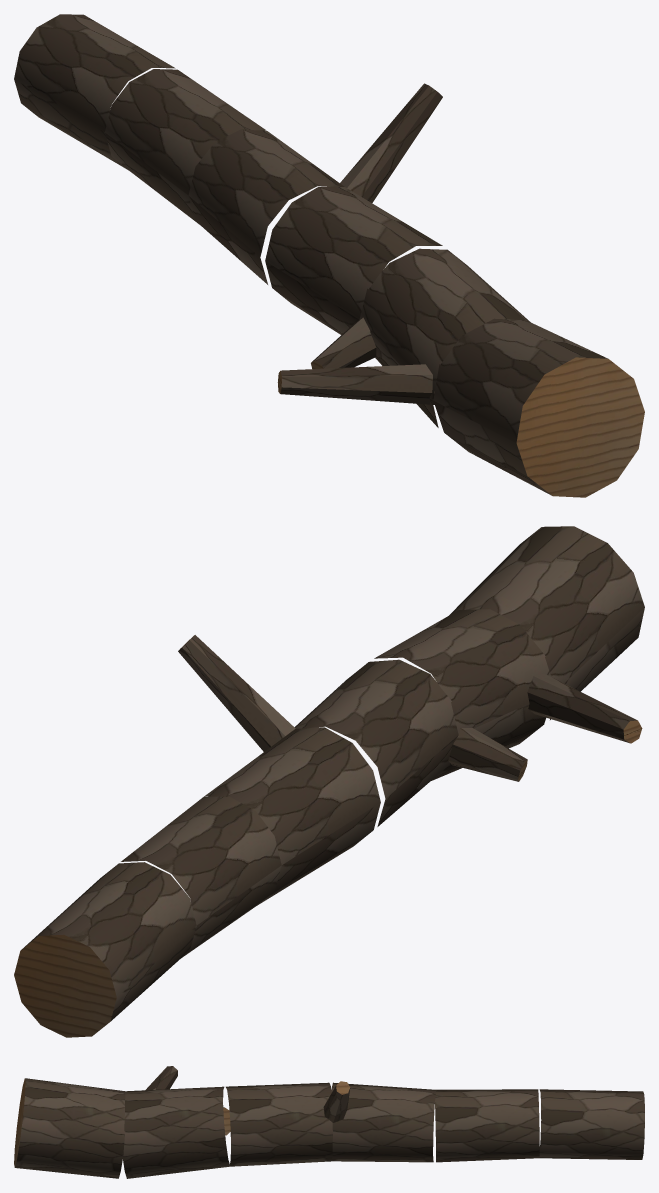
The model's file is log_1.glb.
3 views of the same model, one above another, from view 1: azimuth 30°, elevation 25°; view 2: azimuth 150°, elevation 25°; view 3: azimuth 270°, elevation 25° (orthographic). The views are drawn at different scales.
Visible parts, largest first — view 1: X_log1; view 2: X_log1; view 3: X_log1.
Boxes of the visible parts, x1,y1,x2,y2 form: X_log1: (14, 14, 644, 497); X_log1: (14, 526, 644, 1037); X_log1: (14, 1066, 644, 1178).
Bounding box in the file's own units: 1.02 × 0.6629 × 2.99.
Materials: 2 (2 with a texture image).
